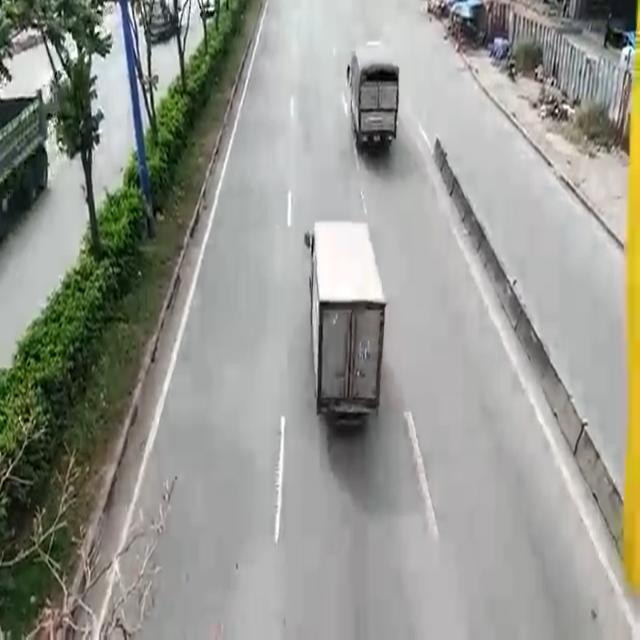truck: (300, 216, 386, 438), (346, 38, 402, 158)
